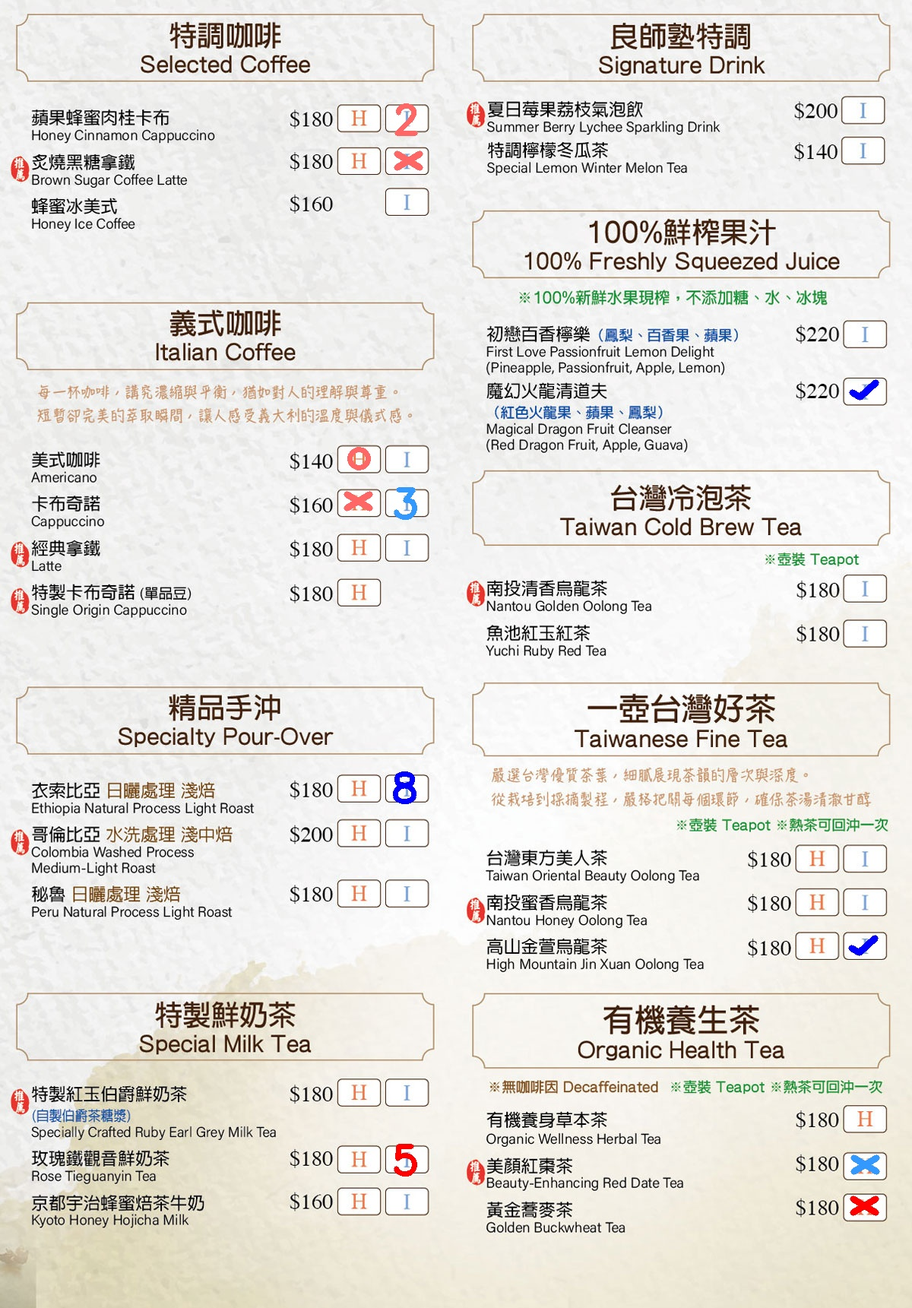marked_hollow: (340, 447, 378, 470)
marked_number_2: (388, 107, 427, 131)
marked_number_3: (388, 491, 426, 515)
marked_number_5: (388, 1148, 426, 1171)
marked_number_8: (387, 775, 426, 799)
marked_tick: (844, 934, 883, 958), (845, 378, 884, 402)
marked_x: (846, 1153, 885, 1177), (845, 1194, 884, 1218), (339, 489, 378, 513), (389, 149, 428, 173)
